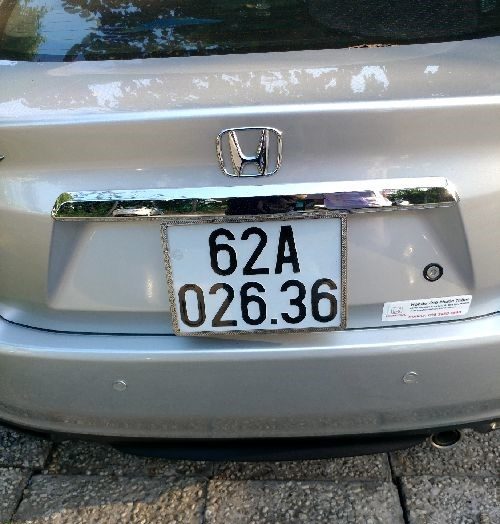number_plate: (149, 212, 353, 345)
